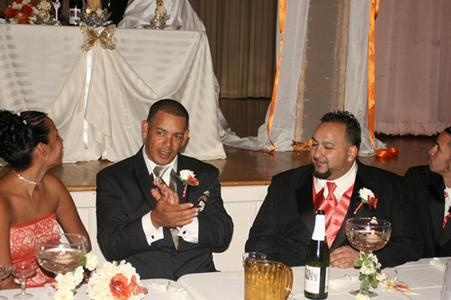person without safety: (91, 94, 237, 274), (255, 100, 401, 249), (1, 93, 88, 250)
